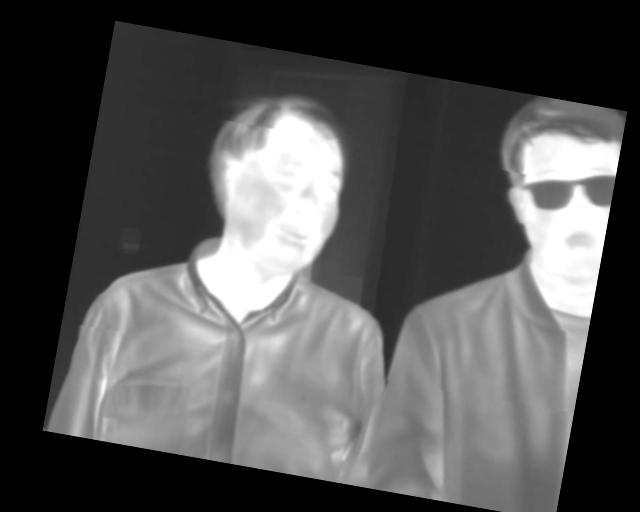face: (194, 79, 358, 278), (481, 92, 626, 288)
